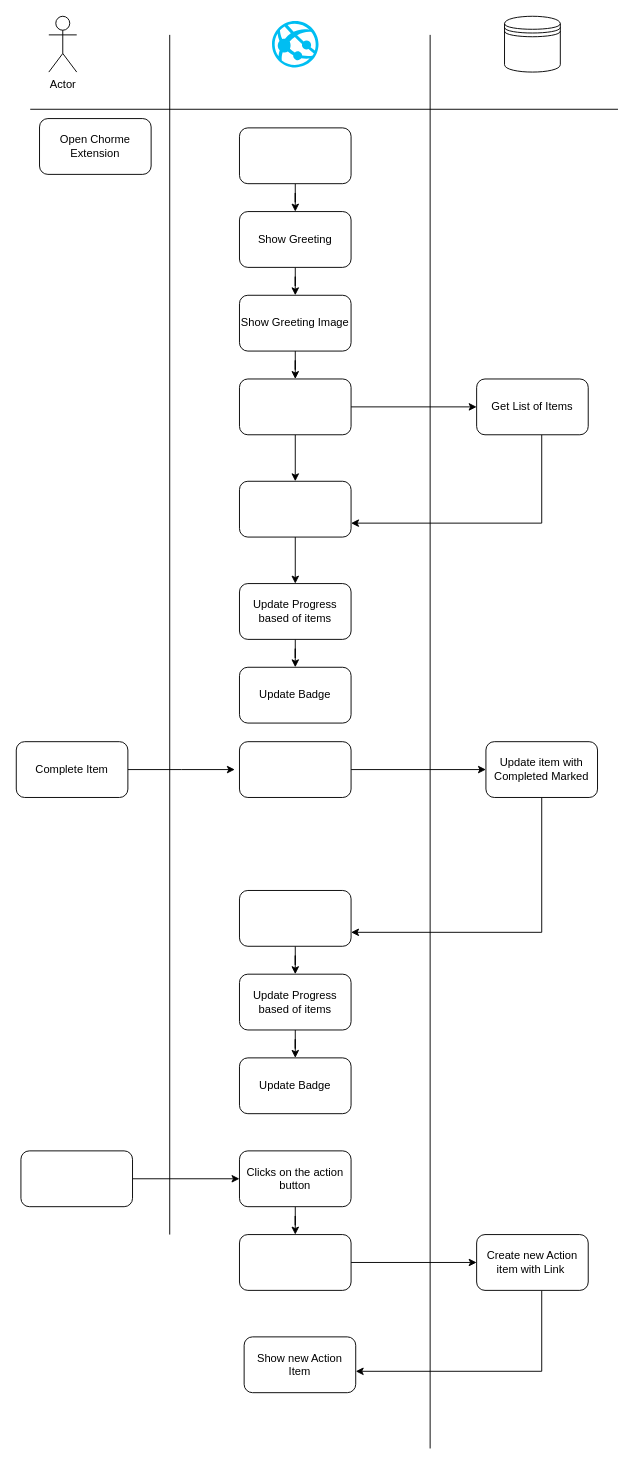
The diagram is 635 pixels wide and 1466 high, and some of its shapes have lost their labels. The box of each missing label's shape, as (x1, y1, x2, y2) in pixels:
Adds Link as a task: (20, 1150, 133, 1207)
Clicks CheckMarks: (239, 741, 351, 797)
Get the URL with the current tab: (239, 1234, 351, 1290)
Load Extension: (239, 127, 351, 184)
Load List of Action Items: (239, 378, 351, 435)
Show List of Items: (239, 480, 351, 537)
Upadate Item View: (239, 890, 351, 946)
